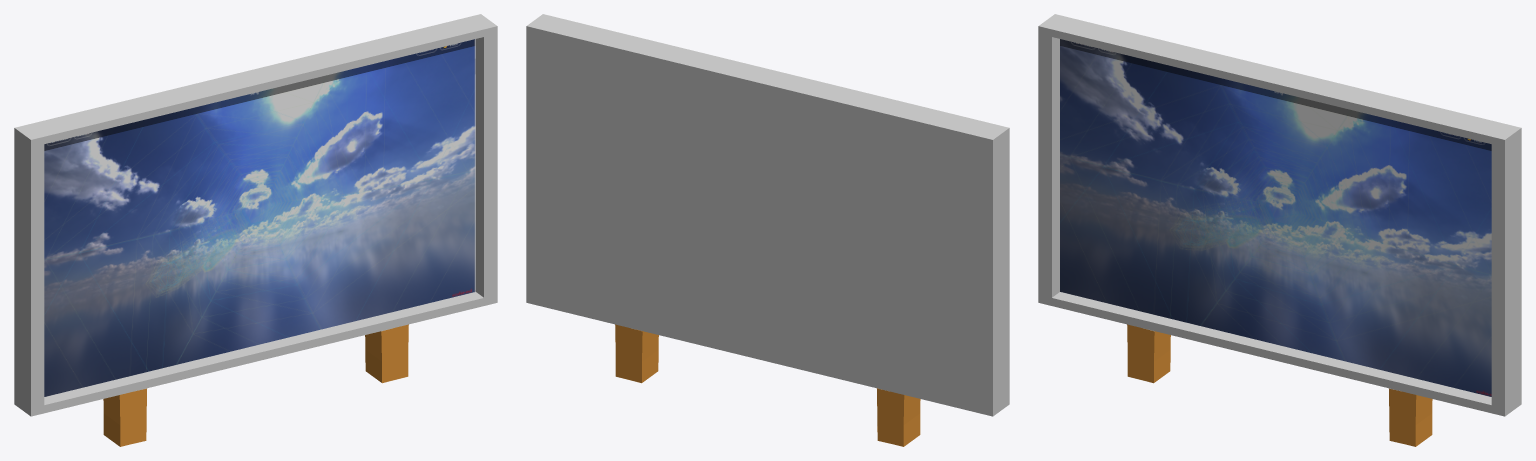
The model's file is frame-gallery1.glb.
3 renders of one model, left to right at view 1: azimuth 30°, elevation 25°; view 2: azimuth 150°, elevation 25°; view 3: azimuth 330°, elevation 25°, orthographic.
Visible parts, largest first — view 1: gallery1, Cube; view 2: Cube; view 3: gallery1, Cube.
Part boxes in pixels (<box>): gallery1: <box>44,39,475,396</box>; Cube: <box>14,14,497,446</box>; Cube: <box>526,14,1009,446</box>; gallery1: <box>1060,39,1491,396</box>; Cube: <box>1038,14,1521,446</box>.
Size of the model in its own units: 11.03 by 7.43 by 0.6791.
3 materials, 1 textured.
